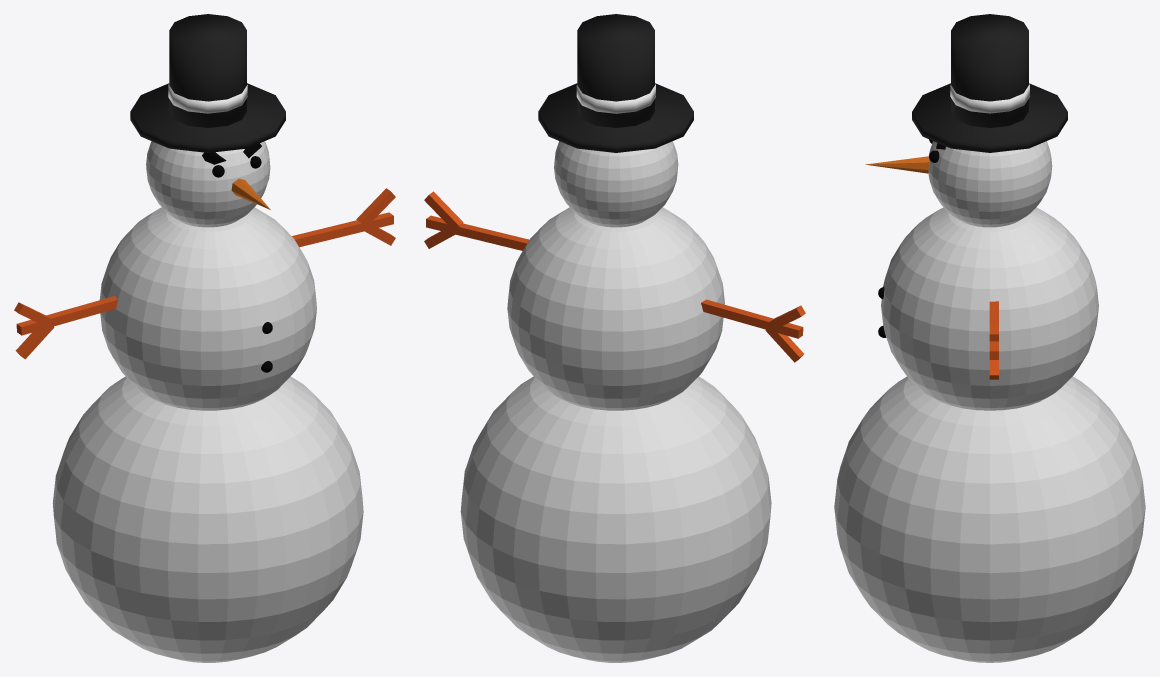
Rendered from snowmanfbx.fbx.
3 renders of one model, left to right at view 1: azimuth 30°, elevation 25°; view 2: azimuth 150°, elevation 25°; view 3: azimuth 270°, elevation 25°, orthographic.
Parts seen in each view (by area): view 1: Sphere.002; view 2: Sphere.002; view 3: Sphere.002.
Boxes of the visible parts, x1,y1,x2,y2 form: Sphere.002: (14,14,395,662); Sphere.002: (424,14,805,662); Sphere.002: (834,14,1145,662).
Size of the model in its own units: 280 by 438 by 200.
